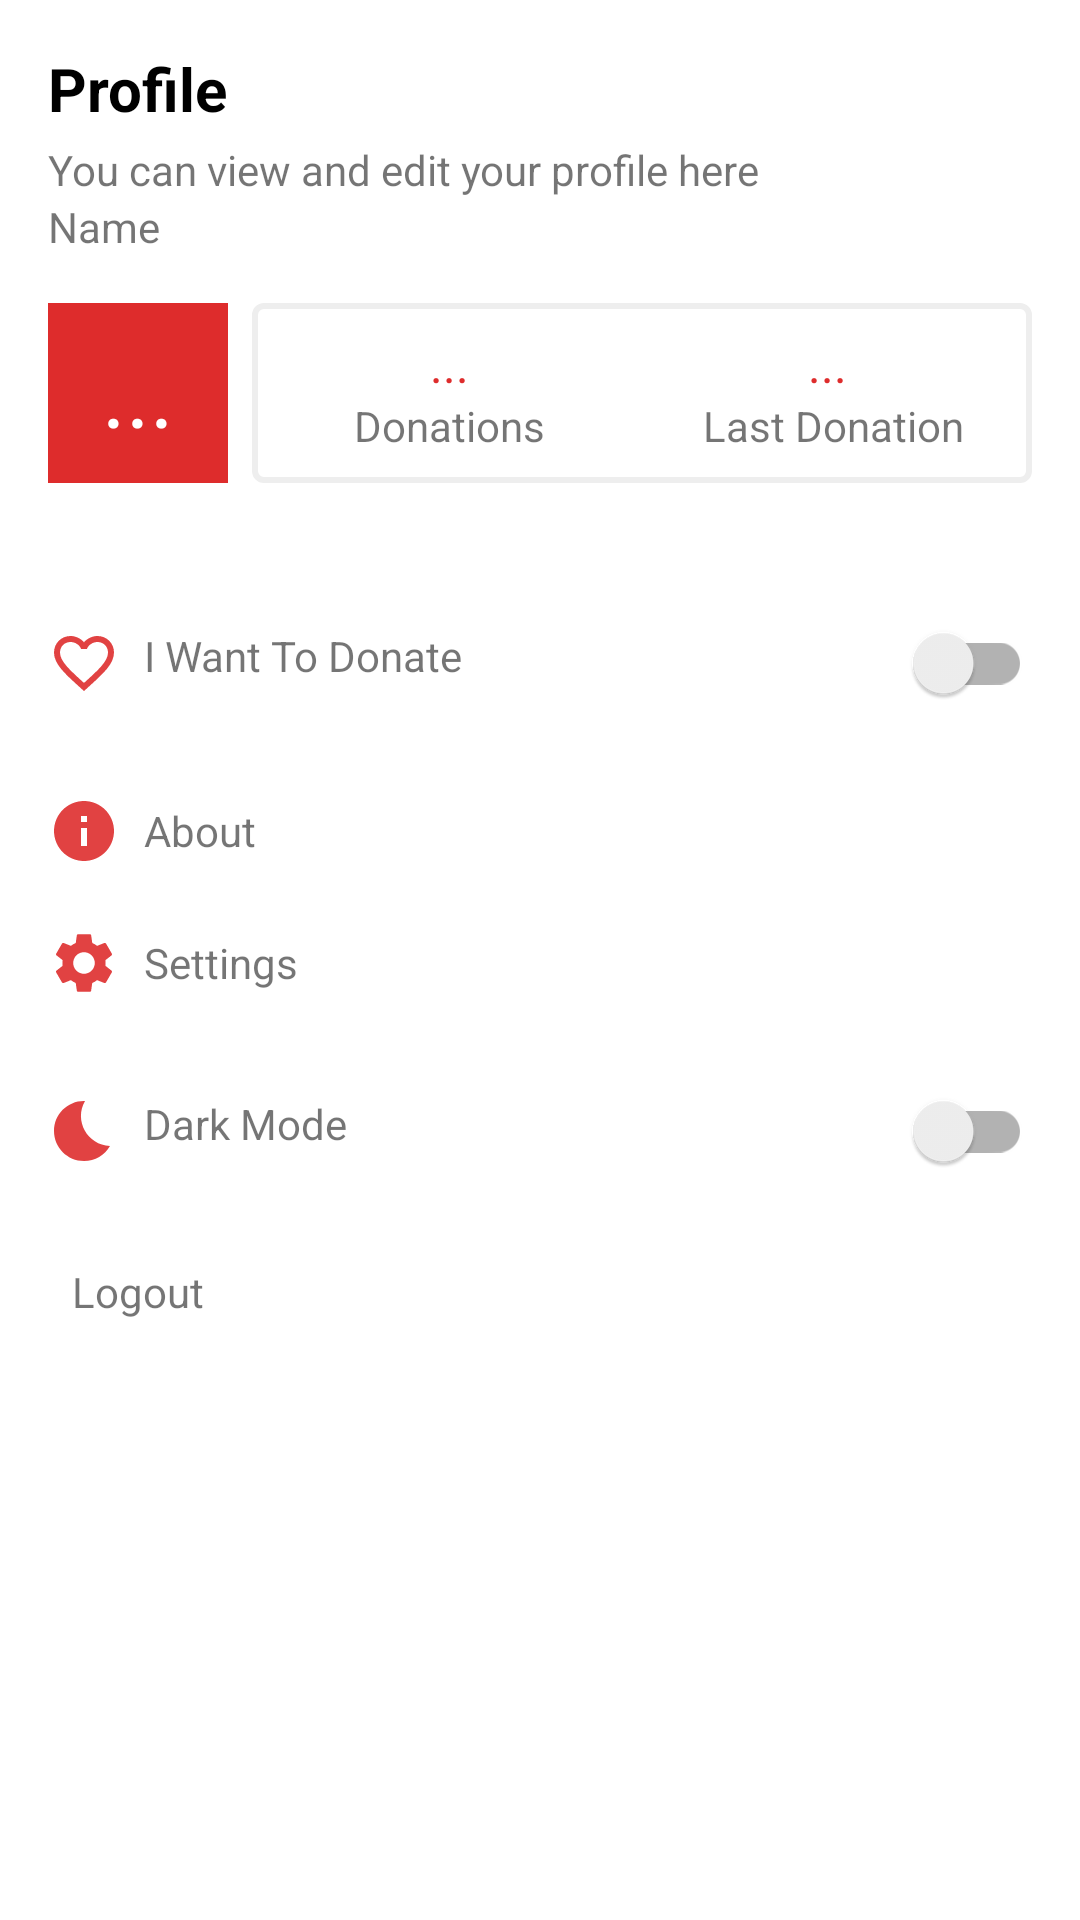

Screen size 1080*1920. Icon name, then its box in pixels as (x1, y1, x2, y2):
bedtime: (54, 1101, 110, 1161)
favorite border: (54, 636, 114, 691)
info: (54, 801, 114, 861)
